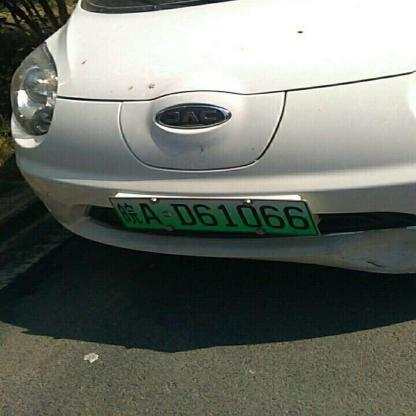lp: (110, 197, 318, 234)
